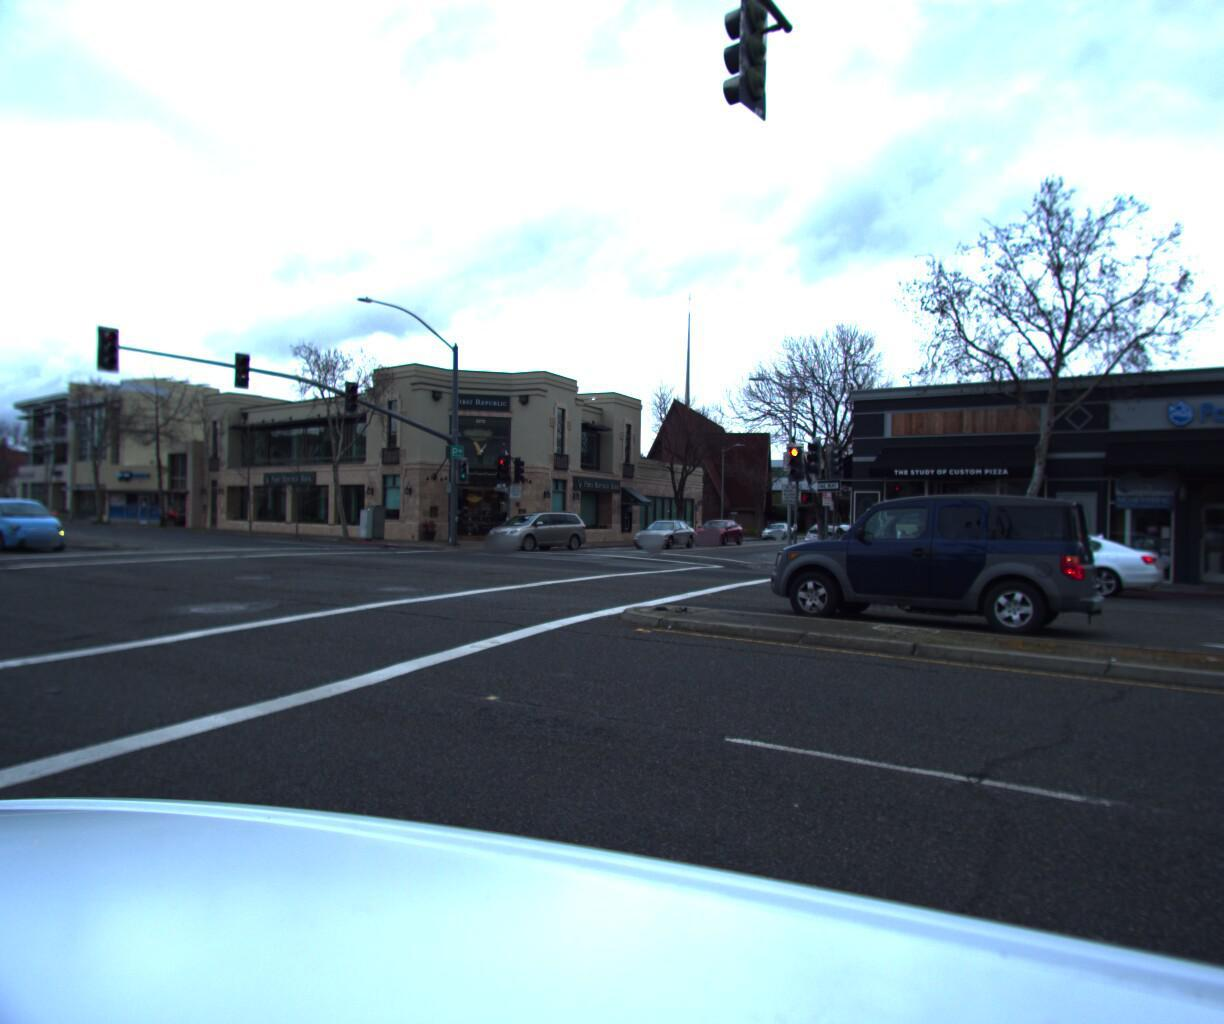car: (763, 493, 1114, 650), (963, 533, 1202, 609), (482, 513, 591, 554), (624, 519, 703, 554), (687, 518, 749, 548), (801, 526, 851, 556), (760, 523, 797, 543)
